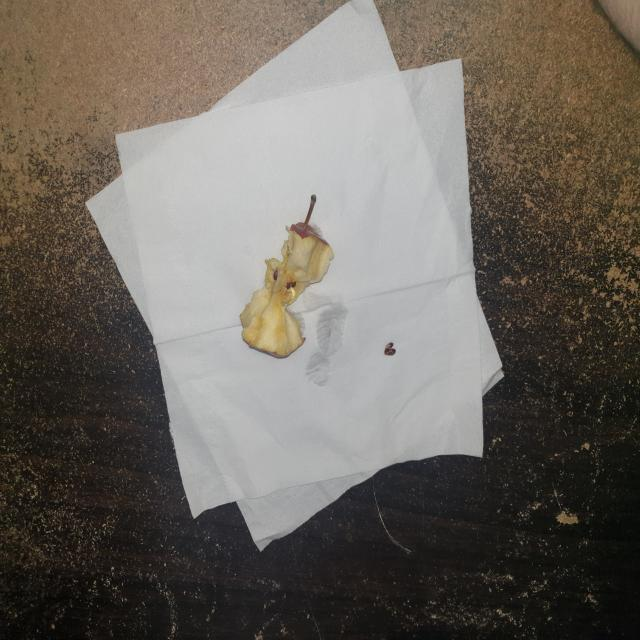apple: (229, 182, 335, 368)
